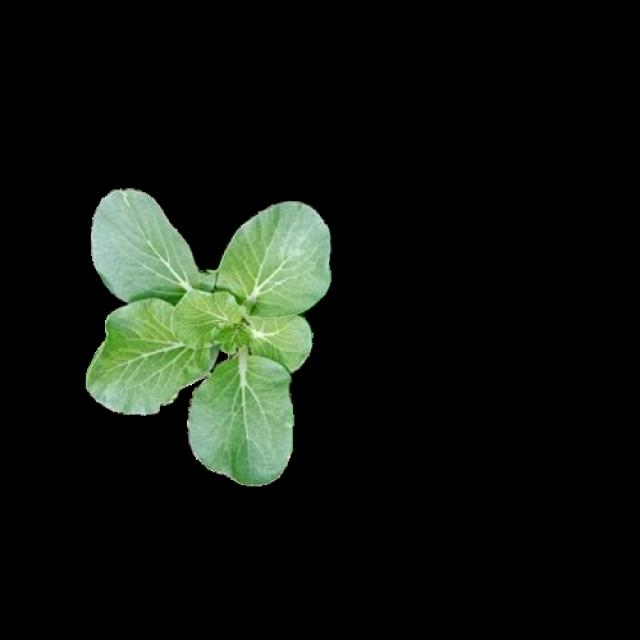healthy: (81, 184, 329, 482)
not-mature: (83, 187, 332, 484)
